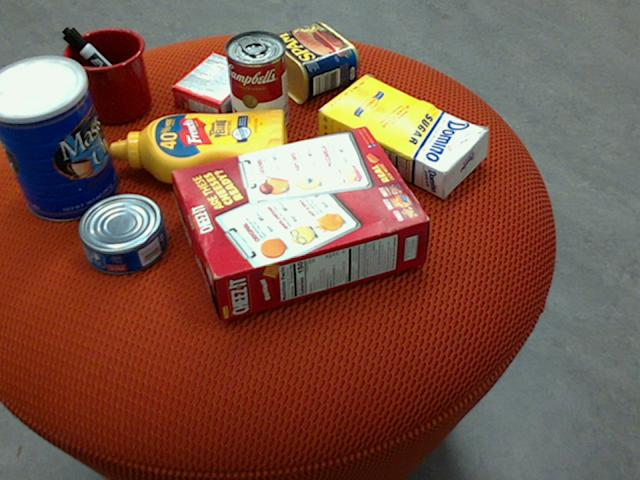cracker_box: (171, 125, 429, 320)
gelatin_box: (171, 51, 262, 120)
large_marker: (62, 27, 147, 109)
master_chef_can: (0, 55, 119, 221)
mug: (50, 28, 151, 124)
mustard_bottle: (110, 109, 288, 184)
potted_meat_can: (259, 22, 359, 104)
sugar_box: (317, 75, 490, 196)
tomato_soup_can: (225, 29, 288, 135)
tuna_fish_can: (78, 194, 168, 275)
